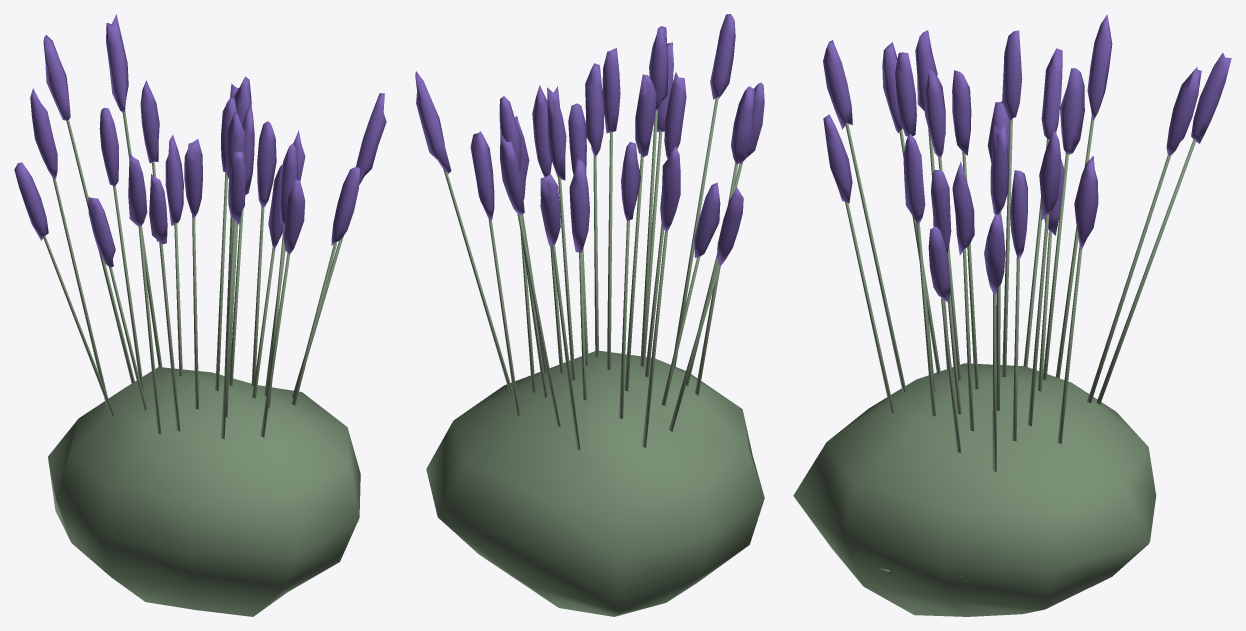
File: lavender.glb
The picture shows the model from 3 angles, left to right: view 1: azimuth 30°, elevation 25°; view 2: azimuth 150°, elevation 25°; view 3: azimuth 270°, elevation 25°; orthographic projection. The views are drawn at different scales.
Parts seen in each view (by area): view 1: lavender, stems; view 2: lavender, stems; view 3: lavender, stems.
Boxes of the visible parts, x1,y1,x2,y2 form: lavender: [14, 14, 386, 616]; stems: [221, 143, 305, 439]; lavender: [415, 26, 764, 616]; stems: [585, 14, 735, 368]; lavender: [793, 14, 1231, 616]; stems: [823, 40, 935, 416].
Bounding box in the file's own units: 0.607 × 0.865 × 0.63.
